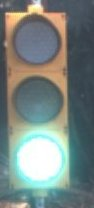Green: (3, 10, 75, 202)
